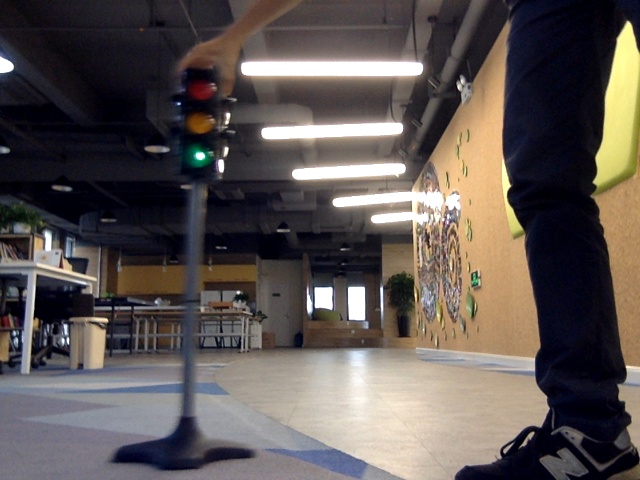green: (180, 72, 220, 174)
